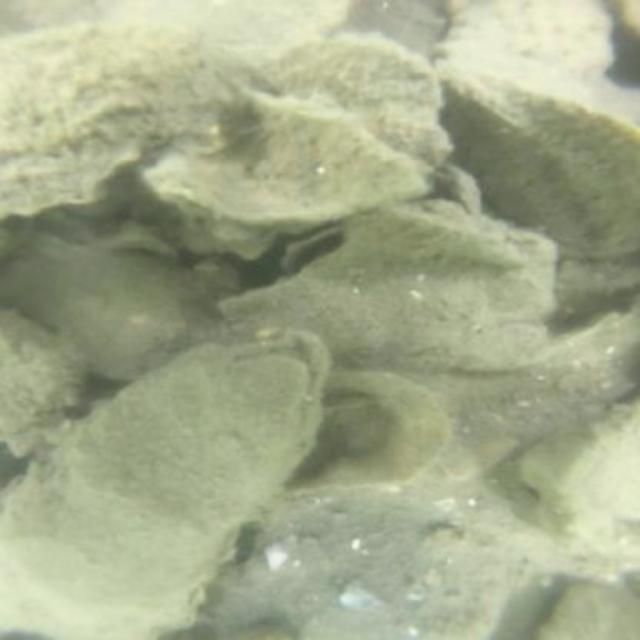Oyster-Closed: (20, 332, 324, 607), (220, 205, 552, 372), (141, 95, 473, 257), (0, 21, 245, 217), (212, 486, 513, 638), (434, 56, 632, 259), (230, 32, 461, 188), (256, 369, 456, 505), (4, 235, 201, 372), (455, 0, 622, 101), (107, 0, 357, 58), (4, 309, 82, 441), (524, 583, 638, 638)
Oyster-Open: (276, 217, 356, 284)
